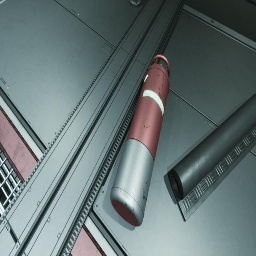NitrogenTank ,: (110, 54, 170, 227)
